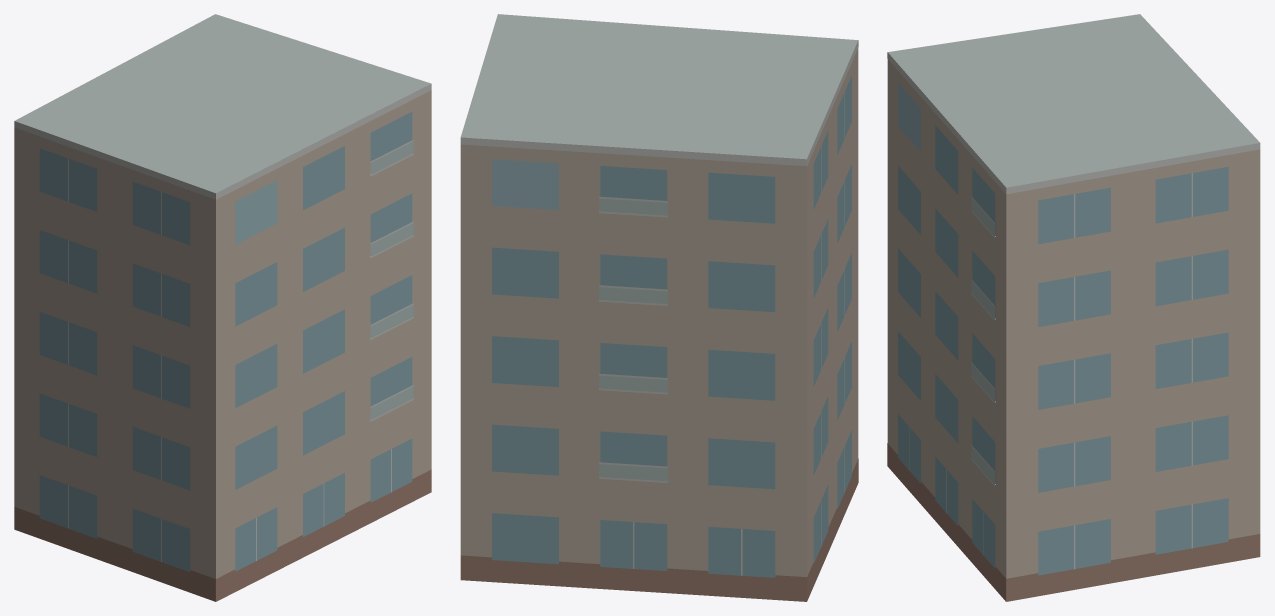
Rendered from survey-upis-32861188.glb.
3 renders of one model, left to right at view 1: azimuth 30°, elevation 25°; view 2: azimuth 150°, elevation 25°; view 3: azimuth 270°, elevation 25°, orthographic. The views are drawn at different scales.
Parts seen in each view (by area): view 1: survey-upis-32861188.tmp; view 2: survey-upis-32861188.tmp; view 3: survey-upis-32861188.tmp.
Boxes of the visible parts, x1,y1,x2,y2 form: survey-upis-32861188.tmp: (14,14,431,601); survey-upis-32861188.tmp: (460,14,858,601); survey-upis-32861188.tmp: (887,14,1260,601).
Bounding box in the file's own units: 13.91 × 15.45 × 12.61.
